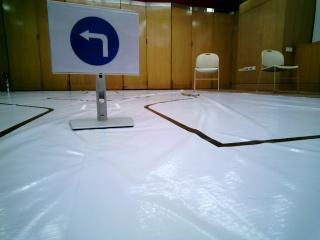left: (60, 5, 136, 69)
